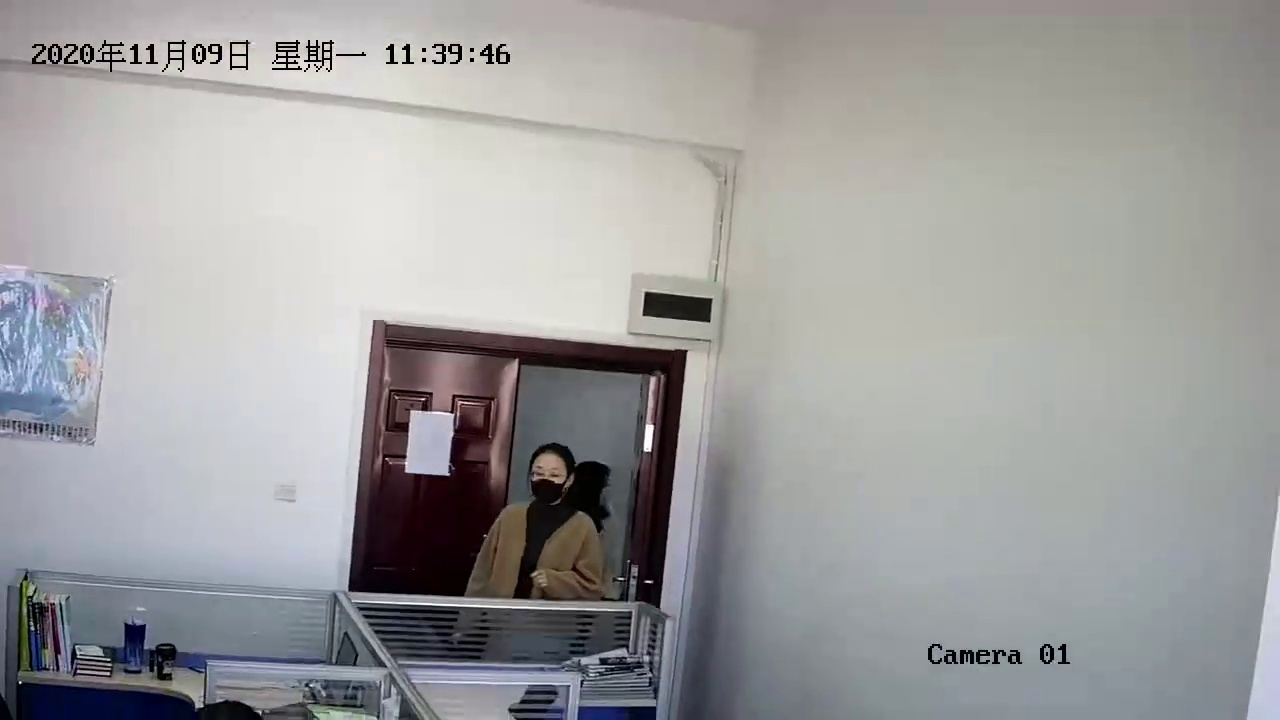mask: (526, 443, 574, 507)
